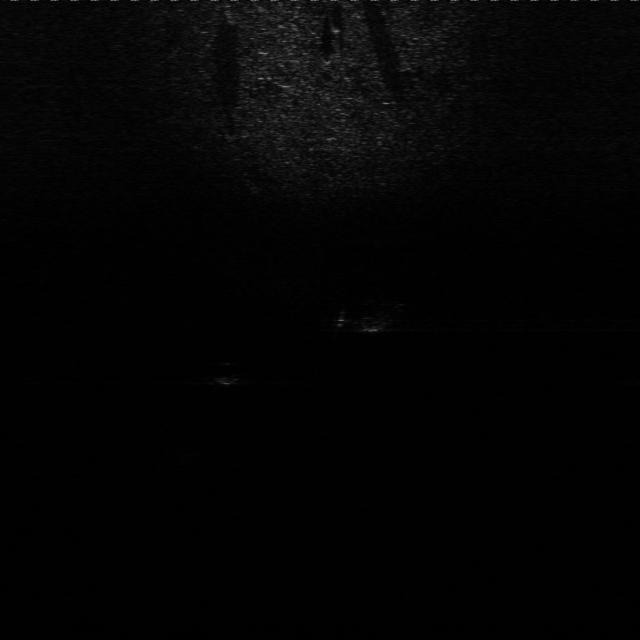ball: (207, 357, 246, 386)
human body: (334, 304, 410, 336)
